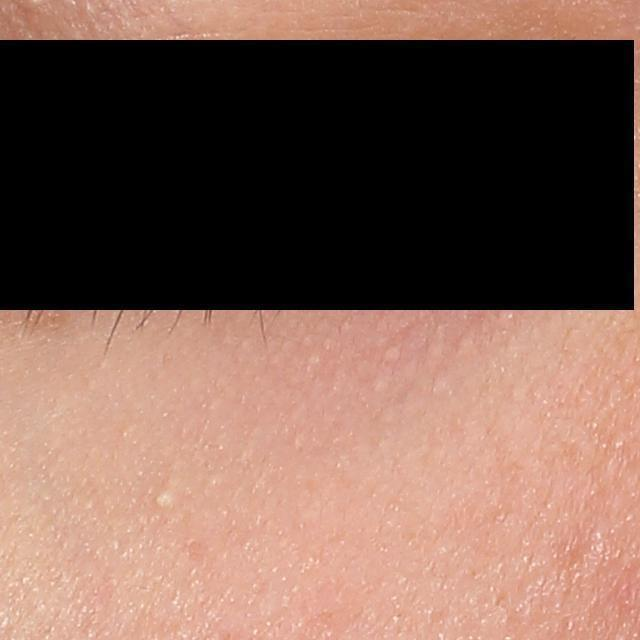other: (153, 487, 176, 514)
